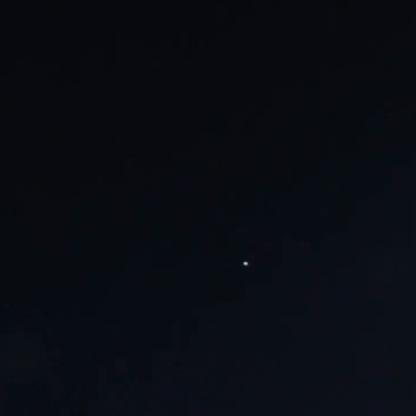ball: (240, 260, 250, 269)
